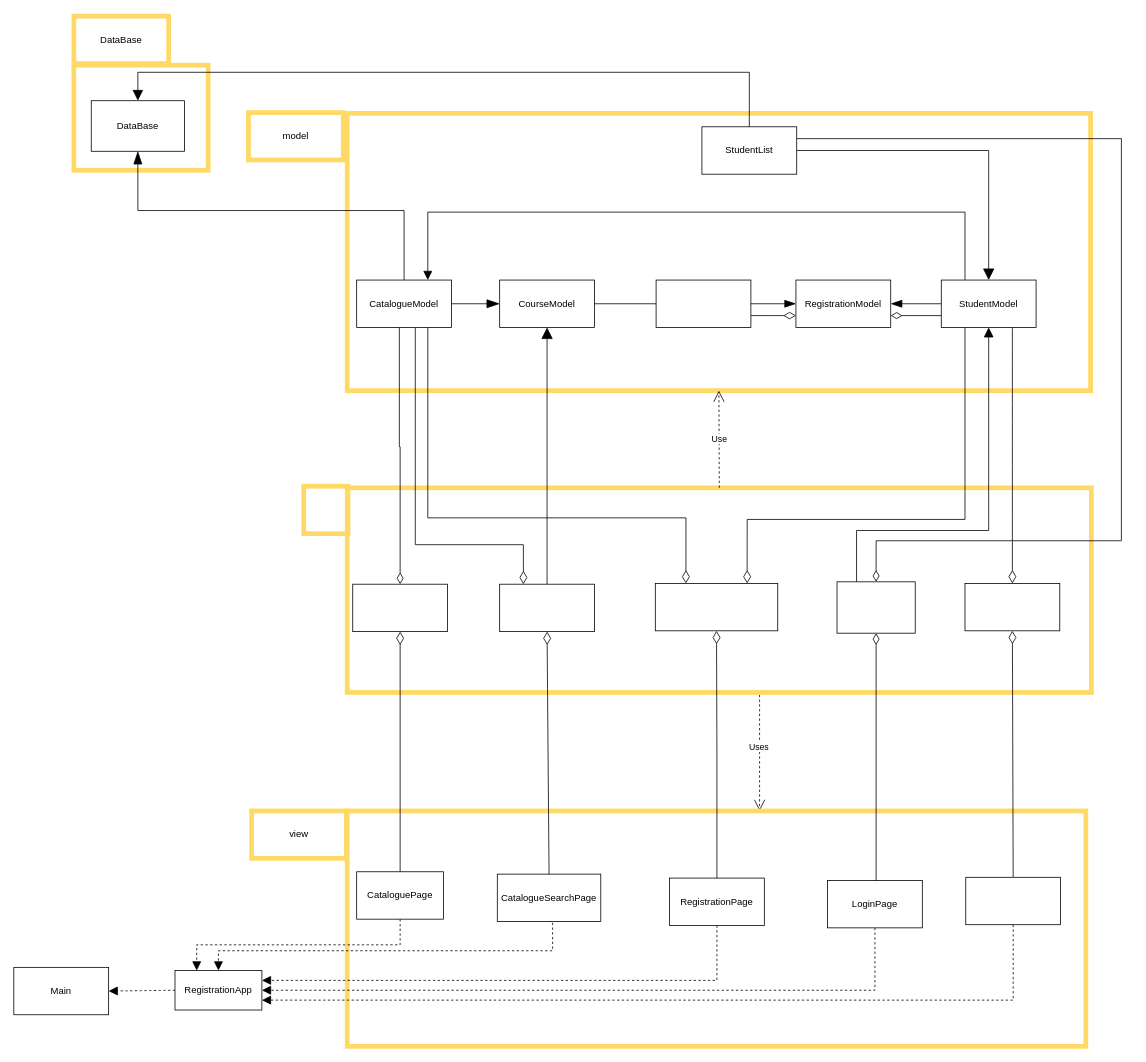
Image size: 1146x1062. Some labels were removed from this diagram. Each missing label, with the box of its shape:
CatalogueController: (352, 583, 448, 632)
controller: (301, 483, 350, 536)
CourseController: (499, 583, 594, 632)
CourseOfferingModel: (655, 279, 751, 327)
LoginController: (836, 581, 915, 633)
RegistrationController: (655, 583, 778, 631)
StudentController: (964, 583, 1060, 631)
StudentCoursesPage: (965, 877, 1061, 925)
